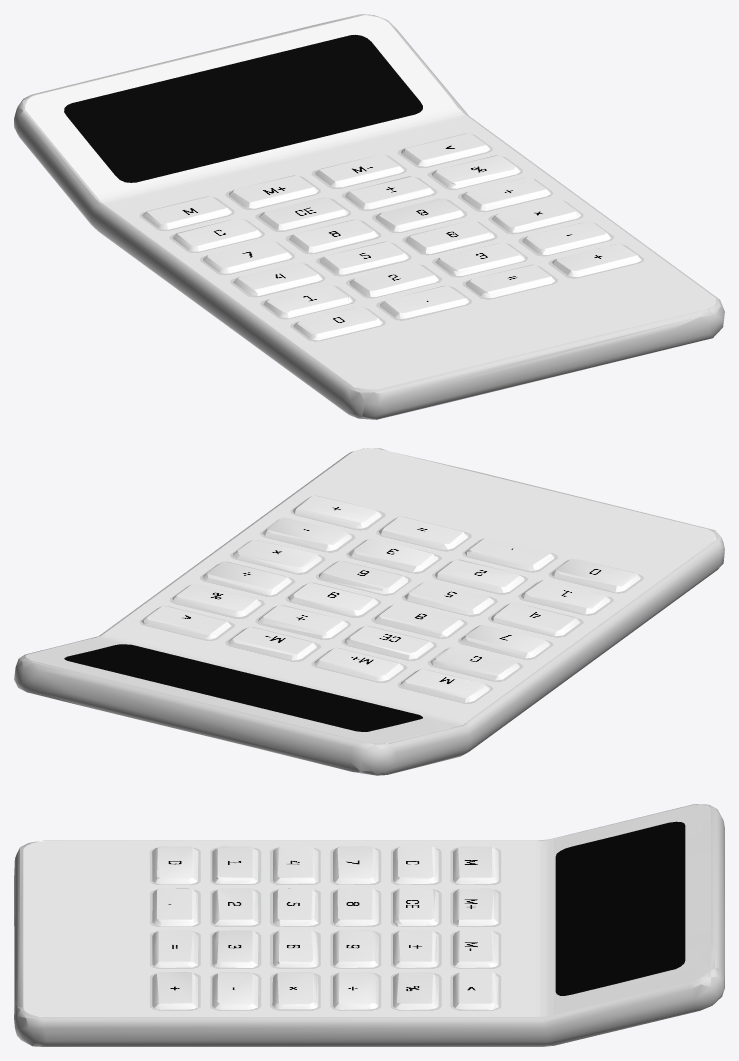
The model's file is Calculadora.glb.
The picture shows the model from 3 angles, top to bottom: view 1: azimuth 30°, elevation 25°; view 2: azimuth 150°, elevation 25°; view 3: azimuth 270°, elevation 25°; orthographic projection.
Visible parts, largest first — view 1: 408ba92e-22d2-4f94-9ec7-b7a29336dfb5, 11b4499d-ff06-436e-be09-eea30b2e14d1, ae859556-08d6-483d-af88-aa7345fefdcd, e8a85f91-a0e6-4707-86dc-82d50219eba0; view 2: 408ba92e-22d2-4f94-9ec7-b7a29336dfb5, 11b4499d-ff06-436e-be09-eea30b2e14d1, e8a85f91-a0e6-4707-86dc-82d50219eba0, ae859556-08d6-483d-af88-aa7345fefdcd; view 3: 408ba92e-22d2-4f94-9ec7-b7a29336dfb5, 11b4499d-ff06-436e-be09-eea30b2e14d1, e8a85f91-a0e6-4707-86dc-82d50219eba0, ae859556-08d6-483d-af88-aa7345fefdcd.
Part boxes in pixels (x1,y1,x2,y2): 408ba92e-22d2-4f94-9ec7-b7a29336dfb5: [25, 15, 715, 389]; 11b4499d-ff06-436e-be09-eea30b2e14d1: [142, 133, 641, 340]; ae859556-08d6-483d-af88-aa7345fefdcd: [64, 34, 422, 182]; e8a85f91-a0e6-4707-86dc-82d50219eba0: [14, 14, 724, 419]; 408ba92e-22d2-4f94-9ec7-b7a29336dfb5: [25, 448, 715, 743]; 11b4499d-ff06-436e-be09-eea30b2e14d1: [141, 495, 640, 702]; e8a85f91-a0e6-4707-86dc-82d50219eba0: [14, 448, 724, 775]; ae859556-08d6-483d-af88-aa7345fefdcd: [64, 644, 422, 731]; 408ba92e-22d2-4f94-9ec7-b7a29336dfb5: [23, 804, 710, 1016]; 11b4499d-ff06-436e-be09-eea30b2e14d1: [152, 846, 498, 1009]; e8a85f91-a0e6-4707-86dc-82d50219eba0: [14, 804, 724, 1046]; ae859556-08d6-483d-af88-aa7345fefdcd: [555, 821, 685, 995].
Size of the model in its own units: 0.0939 by 0.0166 by 0.1536.
4 materials, 2 textured.
